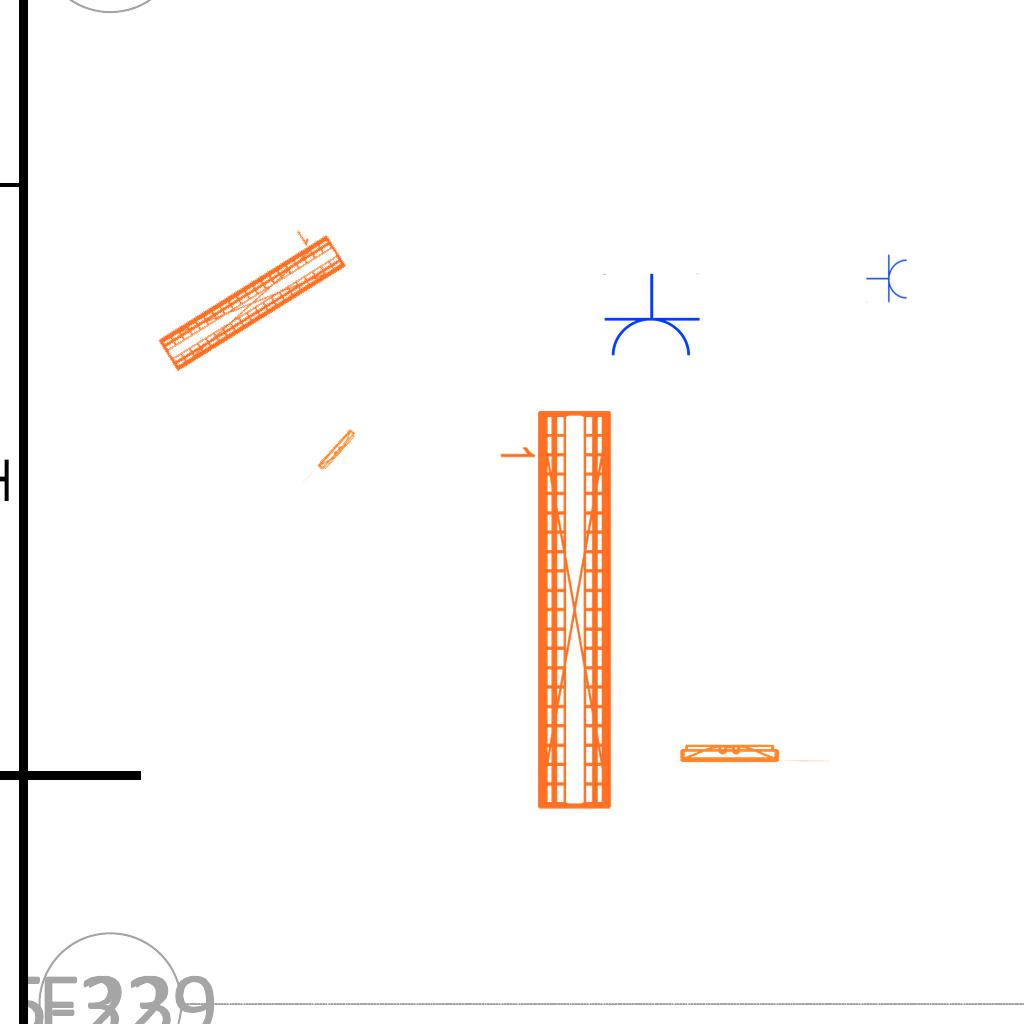Buero_Pendelleuchten_LED: (491, 404, 621, 817), (142, 213, 352, 378)
Schukosteckdose_einfach: (601, 273, 701, 360), (866, 254, 909, 304)
Sicherheitsleuchte_Wandeinbau: (298, 426, 360, 493), (675, 740, 834, 765)
